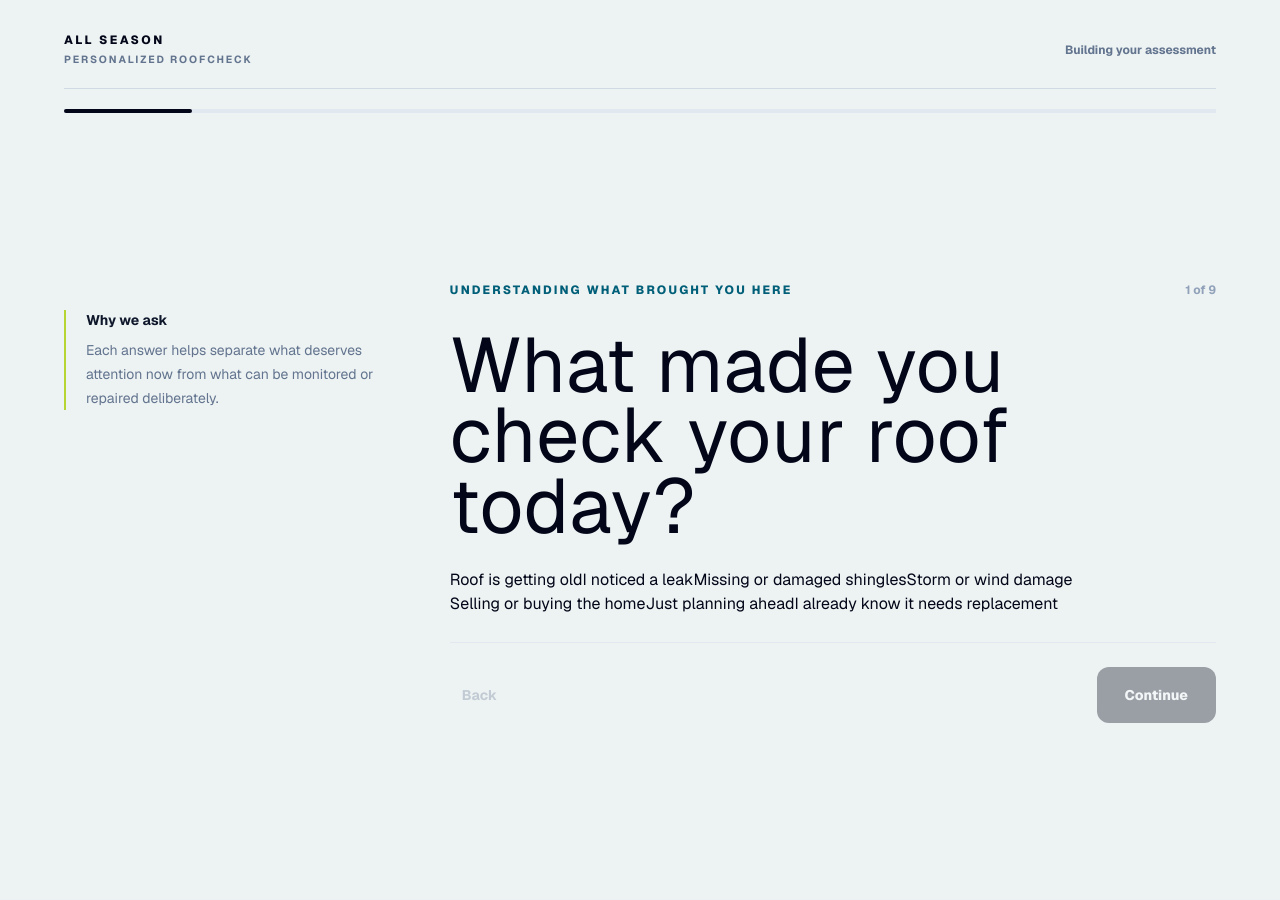
Test: roof assessment questionnaire › saves the homeowner's reason before moving forward
Click the button "I noticed a leak" at coordinates (638, 580), box [582,568,694,592]
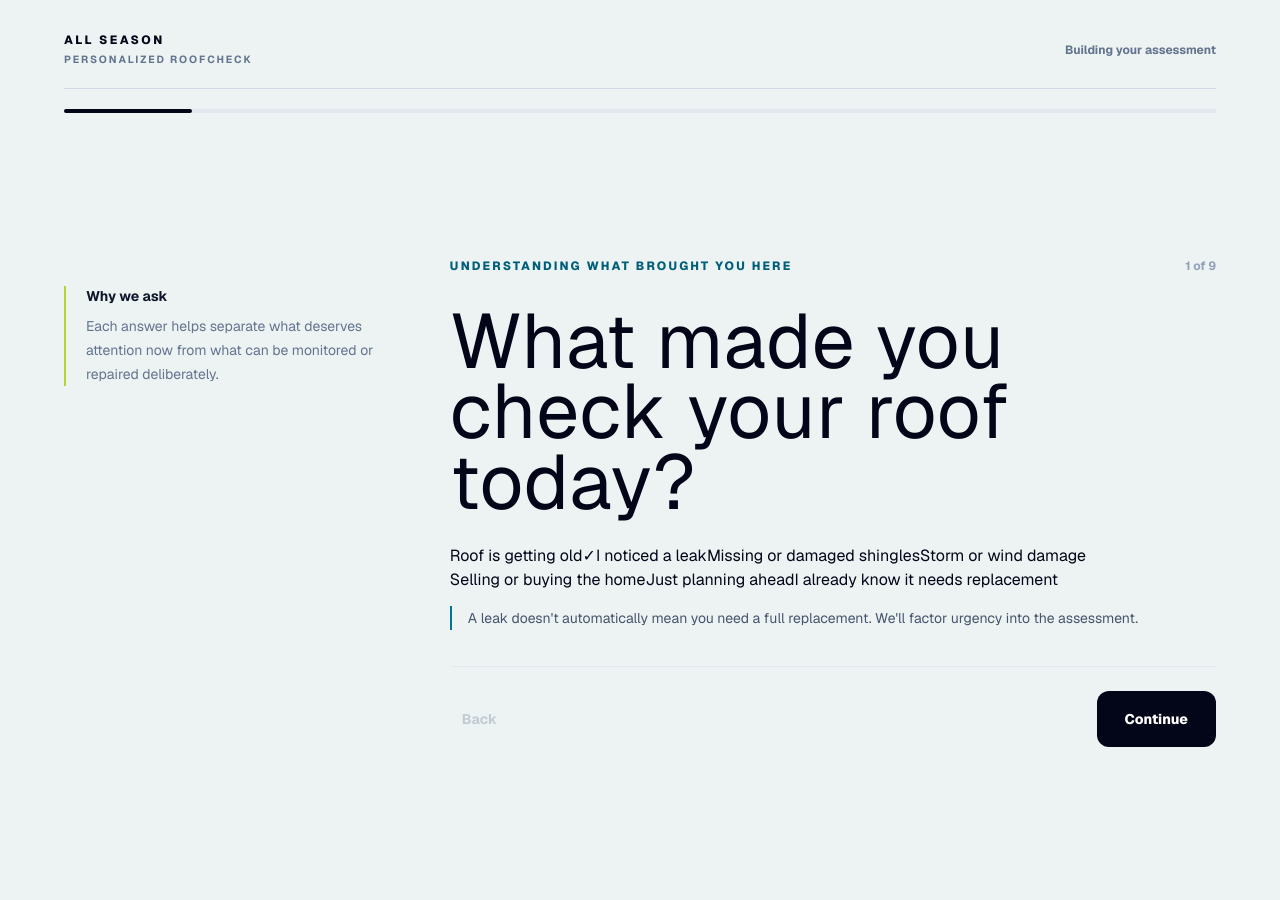
Now the text "doesn't automatically mean" is shown, box [468,609,1138,627]
Click the button "Continue" at coordinates (1156, 719), box [1096,691,1216,747]
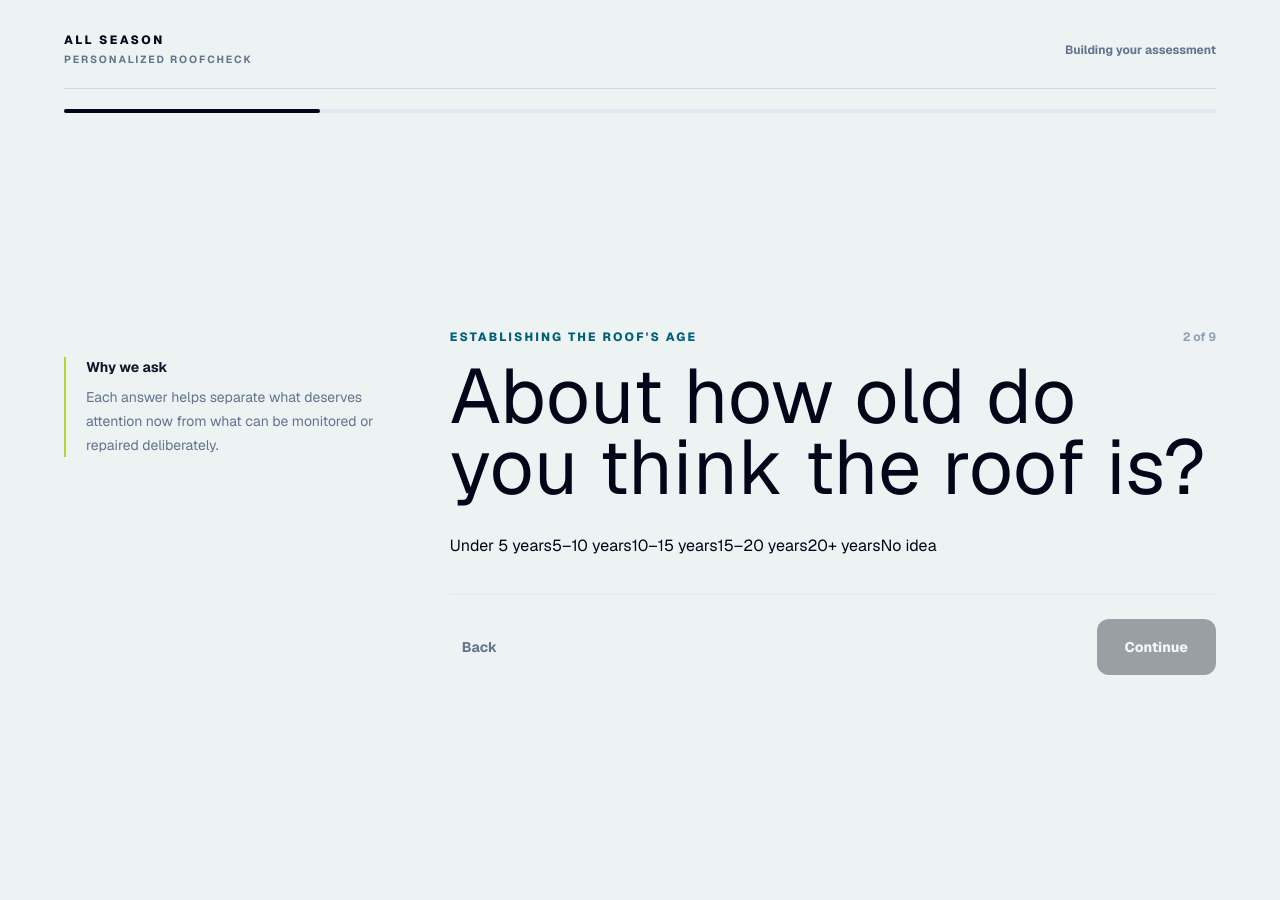
Now the heading "About how old do you think the roof is?" is shown, box [450,361,1216,502]
